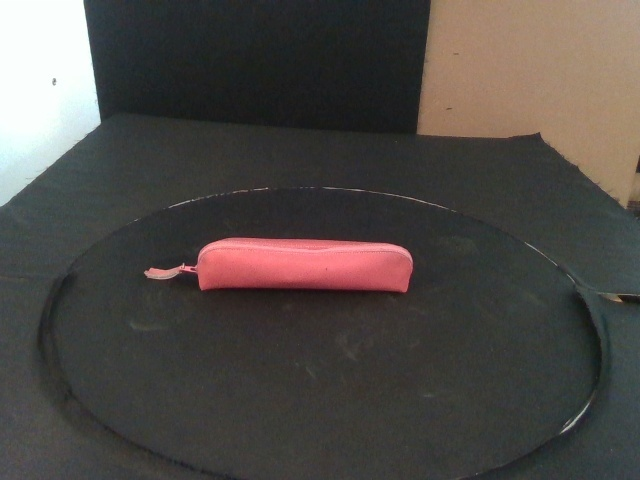pencil_case: (193, 237, 413, 296)
